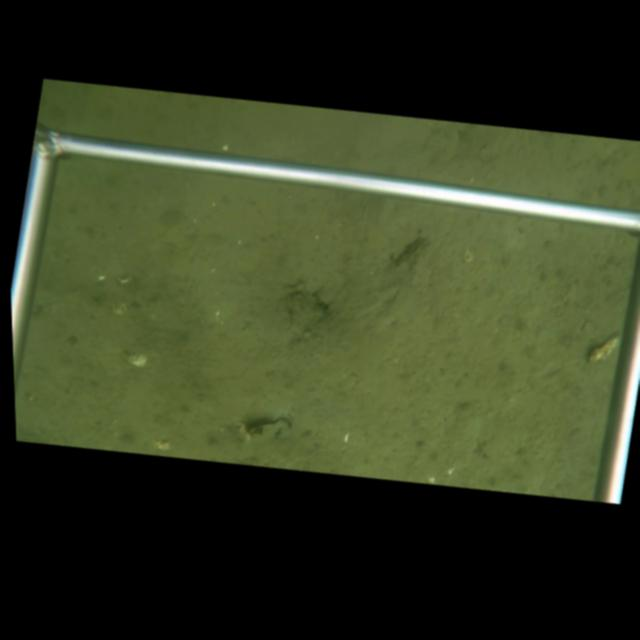Oyster-Closed: (248, 415, 293, 442), (398, 235, 430, 266)
